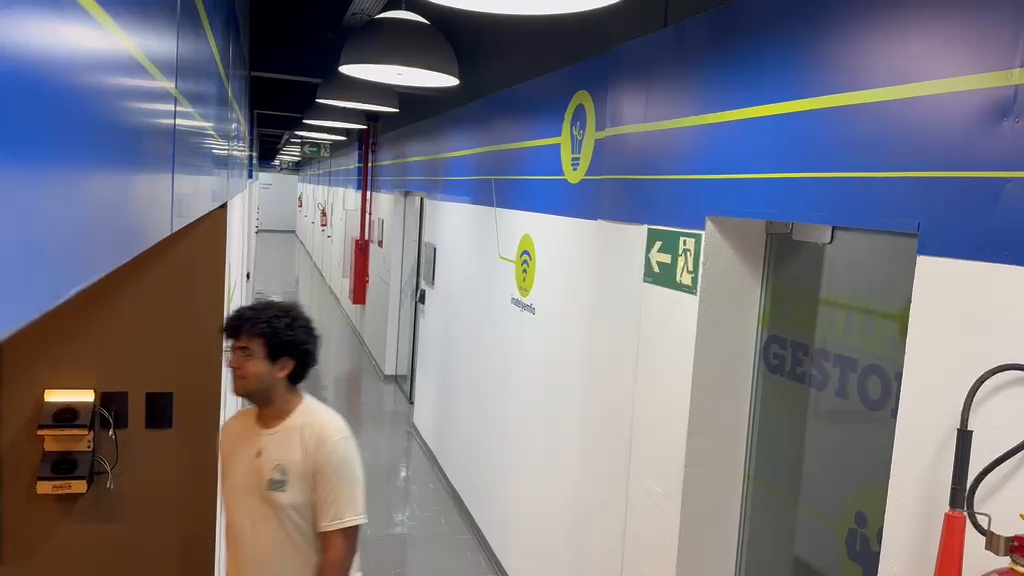person: (217, 299, 367, 573)
